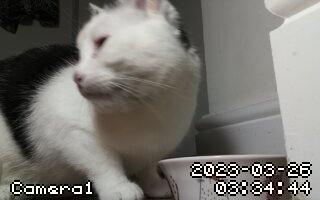bad: (2, 3, 205, 196)
